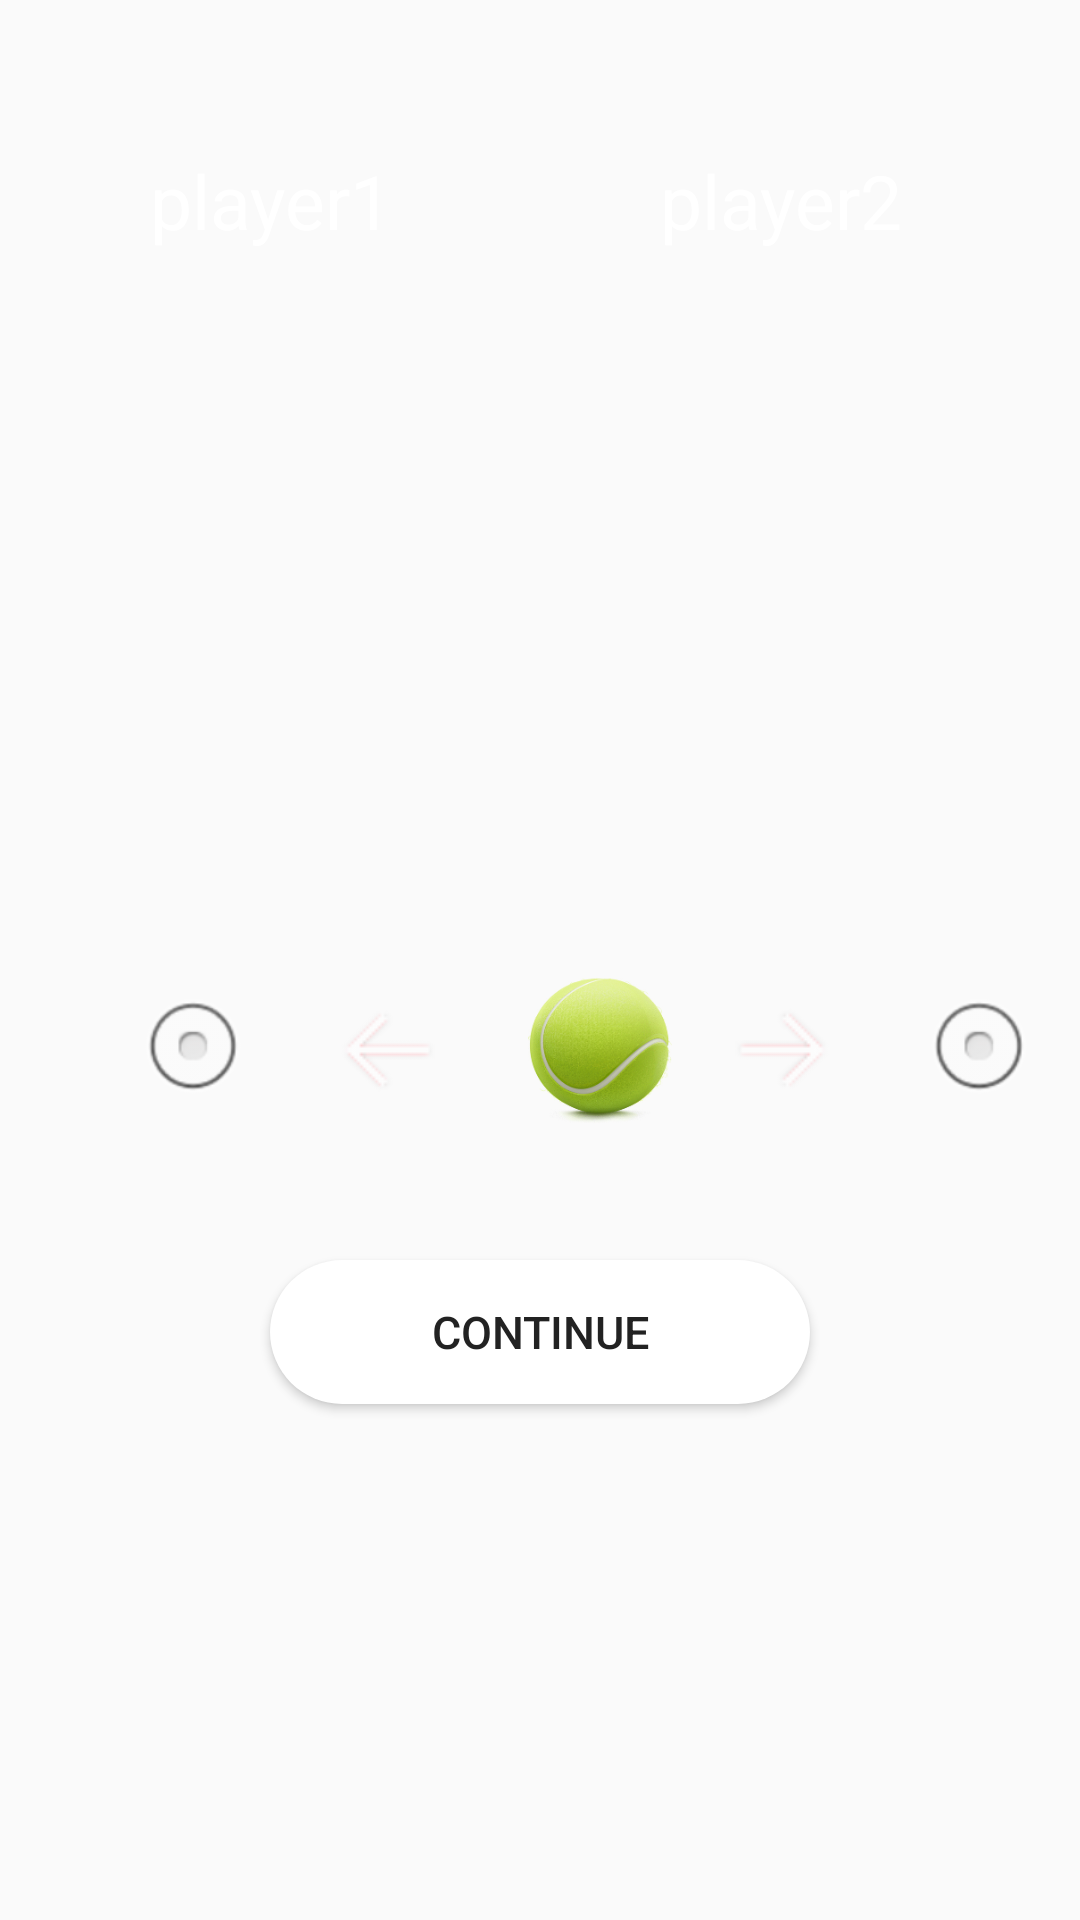

Screen size 1080x1920. Icon name, then its center in pixels as (x,y):
tennis: (599,1049)
